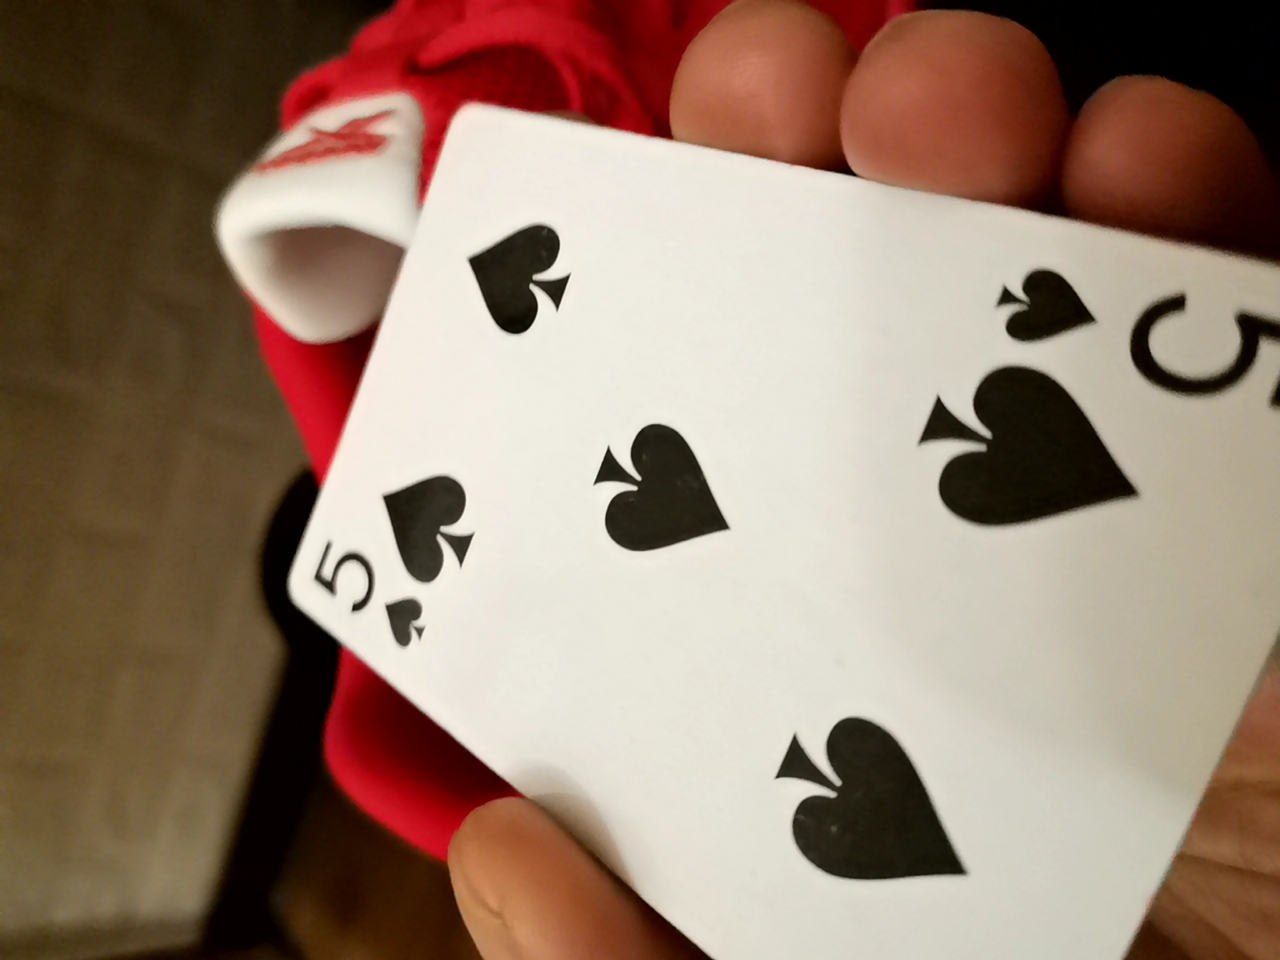ht 5: (283, 122, 1271, 957)
